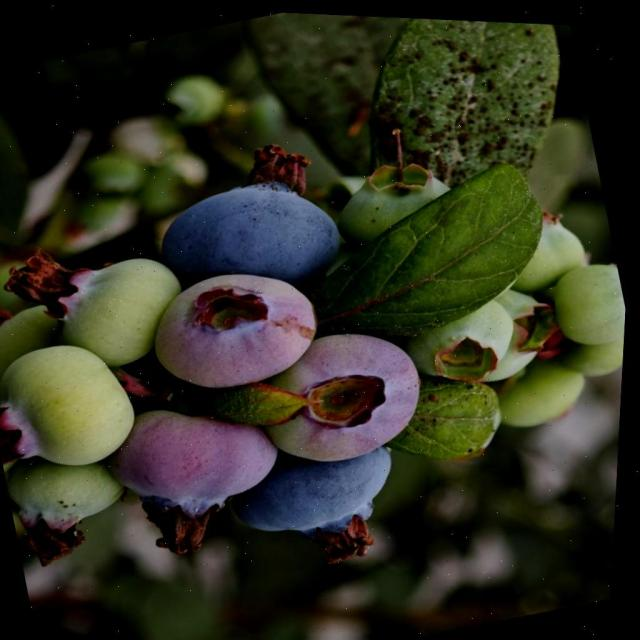RipeBlueBerry: (144, 154, 359, 317), (220, 431, 416, 565)
Semi-RipeBlueBerry: (248, 307, 446, 479), (137, 248, 336, 408), (96, 379, 296, 534)
UnripeBlueBerry: (0, 324, 157, 487), (44, 241, 204, 381), (328, 144, 466, 256), (6, 443, 138, 548), (403, 288, 528, 388), (547, 252, 631, 350)
